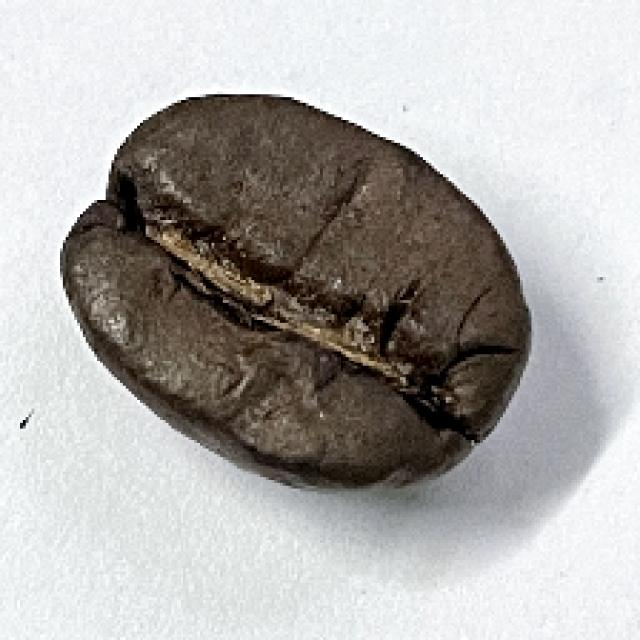bean: (60, 89, 535, 488)
